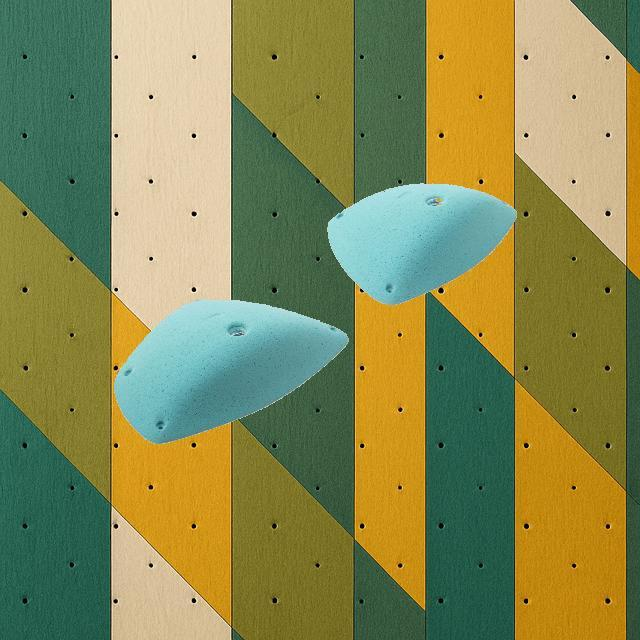Sloper: (112, 296, 348, 444), (325, 180, 517, 306)
